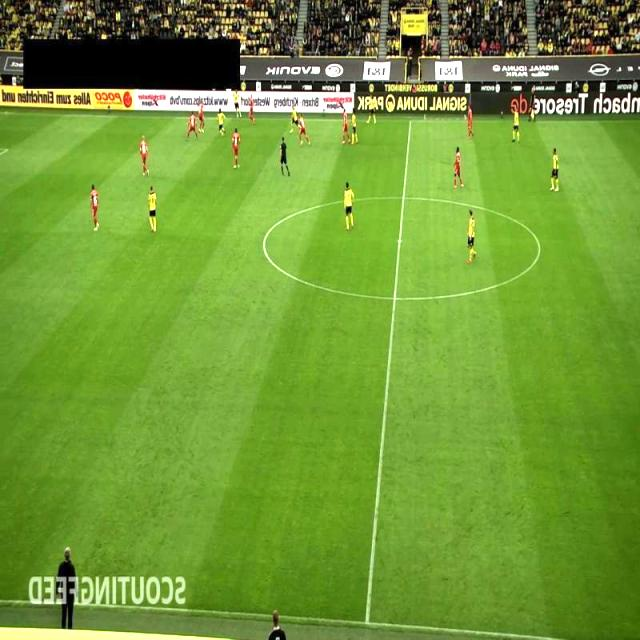bigarea_top_inner: (0, 144, 12, 154)
halfcircle_bottom: (388, 292, 400, 305)
halfcircle_top: (398, 192, 411, 203)
midline_bottom_intersection: (356, 609, 378, 634)
midline_top_intersection: (404, 115, 414, 126)
